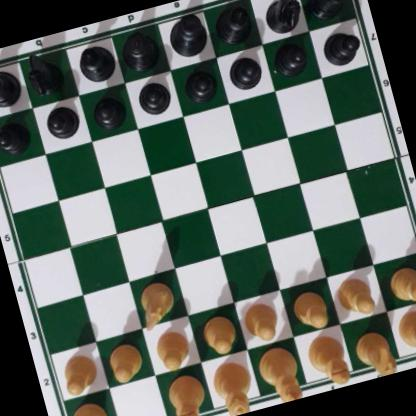black-bishop: (208, 0, 257, 47), (72, 39, 119, 85)
black-king: (162, 11, 211, 61)
black-knight: (22, 47, 64, 97), (258, 0, 303, 35)
black-pawn: (318, 25, 363, 69), (224, 50, 265, 93), (270, 36, 310, 78), (133, 75, 172, 118), (42, 101, 81, 143), (88, 90, 127, 131), (181, 65, 219, 105), (0, 117, 31, 156)
black-queen: (116, 25, 163, 73)
black-rook: (0, 61, 24, 113), (304, 0, 356, 21)
white-bishop: (303, 331, 351, 389), (164, 372, 213, 416)
white-king: (254, 343, 304, 405)
white-knight: (351, 325, 398, 380), (133, 277, 178, 329)
white-pawn: (332, 272, 378, 320), (57, 349, 102, 397), (239, 297, 283, 345), (289, 286, 331, 332), (151, 328, 193, 373), (198, 311, 239, 356), (104, 340, 145, 384), (386, 261, 416, 307)
white-queen: (207, 357, 256, 416)
white-rook: (396, 302, 416, 367), (61, 395, 114, 416)
